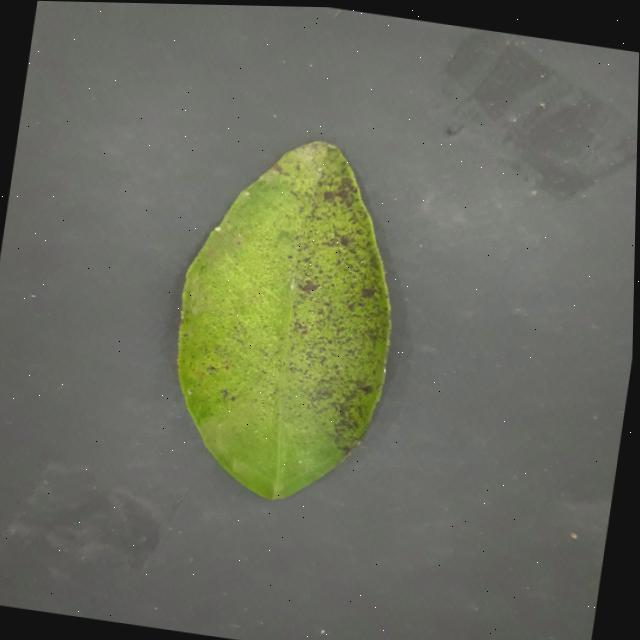greasy_spot: (178, 140, 390, 497)
